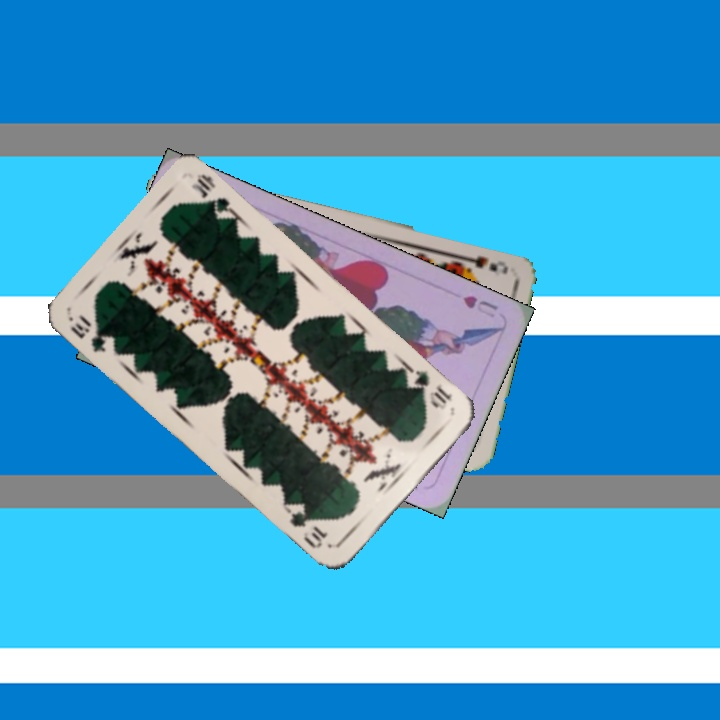G10: (407, 366, 455, 413), (66, 311, 112, 355)
HU: (459, 291, 501, 321)
S9: (452, 251, 500, 274)
